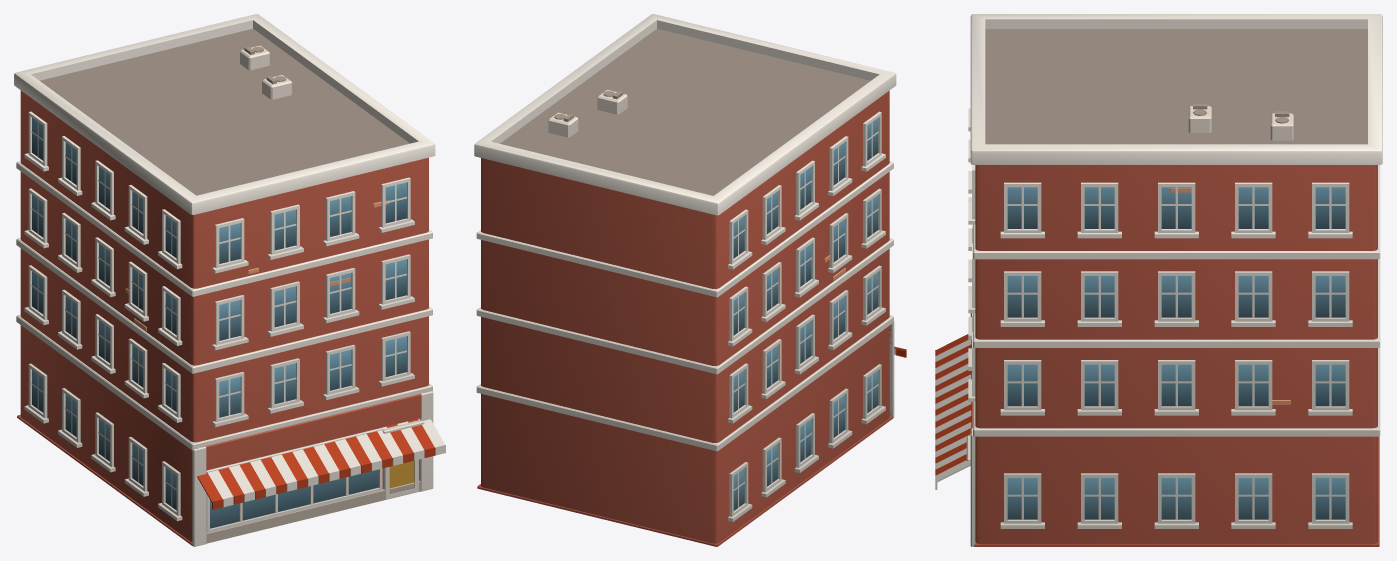
Rendered from boylston_s4.glb.
3 renders of one model, left to right at view 1: azimuth 30°, elevation 25°; view 2: azimuth 150°, elevation 25°; view 3: azimuth 270°, elevation 25°, orthographic. The views are drawn at different scales.
Visible parts, largest first — view 1: boylston_s4; view 2: boylston_s4; view 3: boylston_s4.
Part boxes in pixels (x1,y1,x2,y2): boylston_s4: [14, 14, 445, 546]; boylston_s4: [474, 14, 906, 546]; boylston_s4: [935, 14, 1382, 546].
Bounding box in the file's own units: 11.48 × 15.59 × 15.55.
Materials: 1 (1 with a texture image).
